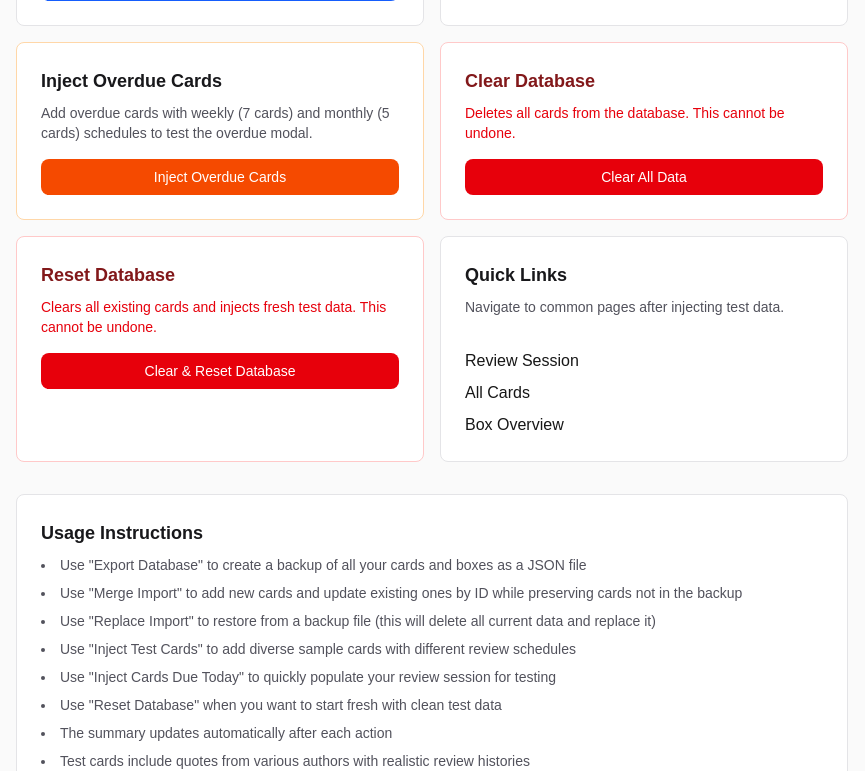
Test: Dev Tools Page › Reset Database › should reset database when button is clicked
(page scrolled)
What coordinates should you click on to do the following:
click the button "Clear & Reset Database"
I would click on:
 (220, 371)
Its box is [41,353,399,389].
(page scrolled)
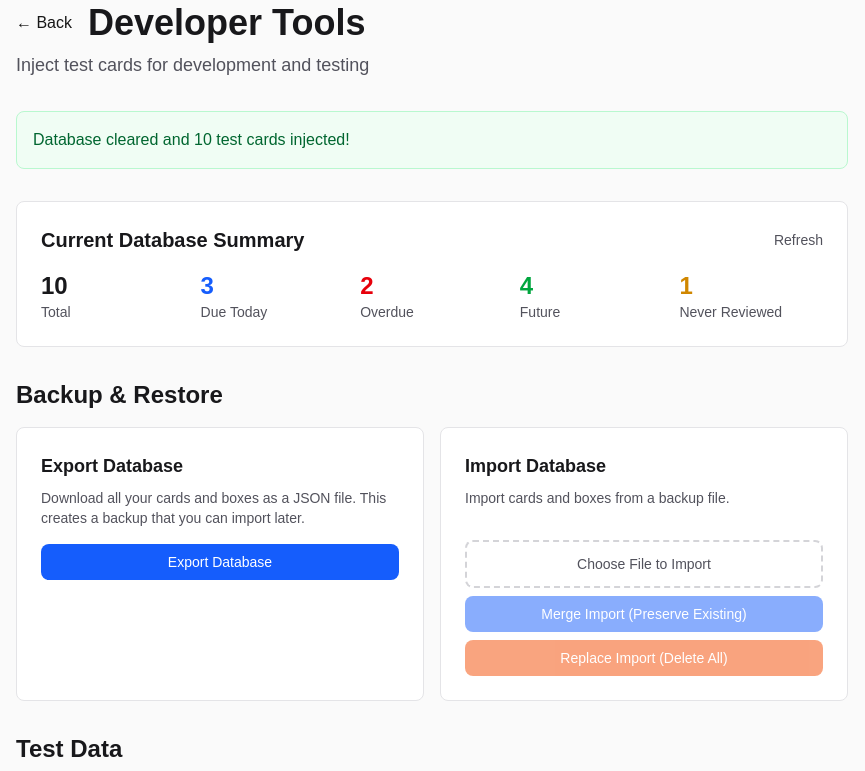
Now the text "Database cleared and 10 test cards injected!" is shown, box [16,111,848,169]
